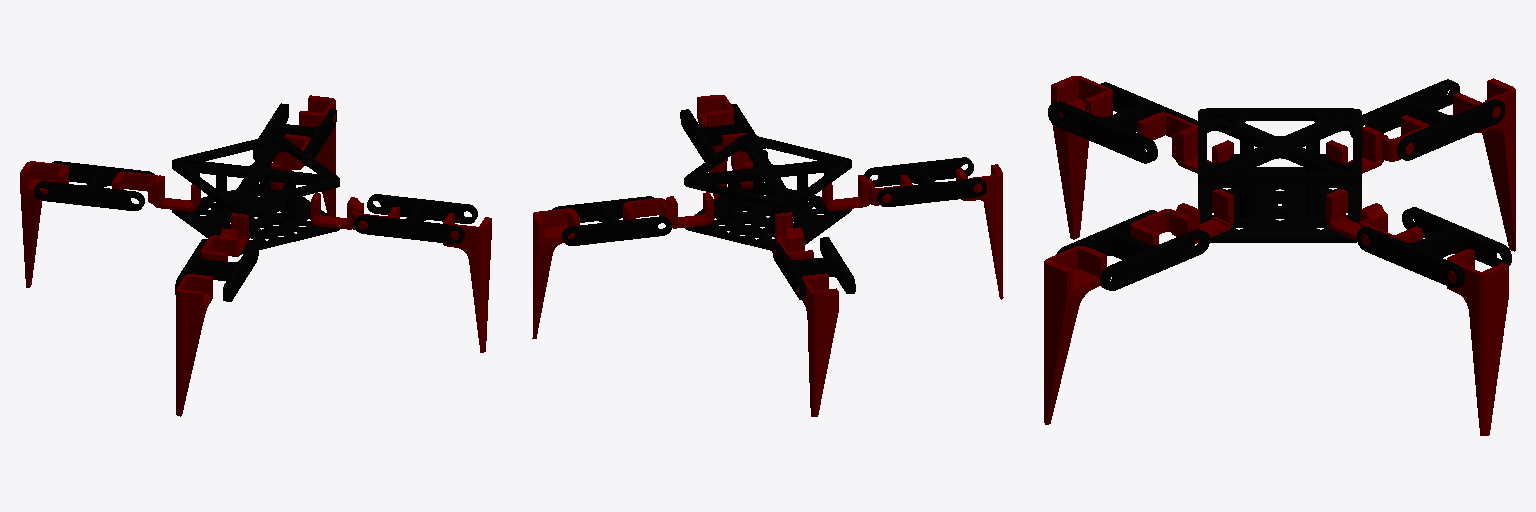
robot.urdf — spidey:
<?xml version="1.0" encoding="utf-8"?>
<!-- This URDF was automatically created by SolidWorks to URDF Exporter! Originally created by [author] ([email redacted]) 
     Commit Version: 1.6.0-1-g15f4949  Build Version: 1.6.7594.29634
     For more information, please see http://wiki.ros.org/sw_urdf_exporter -->
<robot
  name="spidey">
  <link
    name="base_link">
    <inertial>
      <origin
        xyz="-0.00017352 -2.0817E-16 0.10036"
        rpy="0 0 0" />
      <mass
        value="0.055807" />
      <inertia
        ixx="4.4373E-05"
        ixy="-4.3194E-20"
        ixz="4.2338E-11"
        iyy="4.7467E-05"
        iyz="1.713E-19"
        izz="8.7542E-05" />
    </inertial>
    <visual>
      <origin
        xyz="0 0 0"
        rpy="0 0 0" />
      <geometry>
        <mesh
          filename="base_link.obj" />
      </geometry>
      <material
        name="">
        <color
          rgba="0.025 0.025 0.025 1" />
      </material>
    </visual>
    <collision>
      <origin
        xyz="0 0 0"
        rpy="0 0 0" />
      <geometry>
        <mesh
          filename="base_link.obj" />
      </geometry>
    </collision>
  </link>
  <link
    name="leg1_link1">
    <inertial>
      <origin
        xyz="-0.022109 -0.013242 0.00314"
        rpy="0 0 0" />
      <mass
        value="0.0072387" />
      <inertia
        ixx="5.2277E-07"
        ixy="-1.4983E-07"
        ixz="3.6806E-07"
        iyy="3.2726E-06"
        iyz="2.8591E-08"
        izz="3.2165E-06" />
    </inertial>
    <visual>
      <origin
        xyz="0 0 0"
        rpy="0 0 0" />
      <geometry>
        <mesh
          filename="leg1_link1.obj" />
      </geometry>
      <material
        name="">
        <color
          rgba="0.4 0 0 1" />
      </material>
    </visual>
    <collision>
      <origin
        xyz="0 0 0"
        rpy="0 0 0" />
      <geometry>
        <mesh
          filename="leg1_link1.obj" />
      </geometry>
    </collision>
  </link>
  <joint
    name="leg1_joint1"
    type="revolute">
    <origin
      xyz="0.038964 -0.038964 0.0821"
      rpy="-1.5708 0 2.3562" />
    <parent
      link="base_link" />
    <child
      link="leg1_link1" />
    <axis
      xyz="0 1 0" />
    <limit
      lower="-1.74533"
      upper="1.39626"
      effort="15"
      velocity="7" />
  </joint>
  <link
    name="leg1_link2">
    <inertial>
      <origin
        xyz="0.0355 -6.9389E-18 -0.0042444"
        rpy="0 0 0" />
      <mass
        value="0.01229" />
      <inertia
        ixx="3.8942E-06"
        ixy="-4.3411E-22"
        ixz="0"
        iyy="8.4805E-06"
        iyz="7.4656E-22"
        izz="5.0073E-06" />
    </inertial>
    <visual>
      <origin
        xyz="0 0 0"
        rpy="0 0 0" />
      <geometry>
        <mesh
          filename="leg1_link2.obj" />
      </geometry>
      <material
        name="">
        <color
          rgba="0.025 0.025 0.025 1" />
      </material>
    </visual>
    <collision>
      <origin
        xyz="0 0 0"
        rpy="0 0 0" />
      <geometry>
        <mesh
          filename="leg1_link2.obj" />
      </geometry>
    </collision>
  </link>
  <joint
    name="leg1_joint2"
    type="revolute">
    <origin
      xyz="-0.033 -0.0145 0"
      rpy="0 0 3.1416" />
    <parent
      link="leg1_link1" />
    <child
      link="leg1_link2" />
    <axis
      xyz="0 0 1" />
    <limit
      lower="-1.6"
      upper="1.39626"
      effort="15"
      velocity="7" />
  </joint>
  <link
    name="leg1_link3">
    <inertial>
      <origin
        xyz="-0.011941 0.0057413 -0.023372"
        rpy="0 0 0" />
      <mass
        value="0.016854" />
      <inertia
        ixx="9.0006E-06"
        ixy="5.2666E-08"
        ixz="-1.776E-06"
        iyy="9.9265E-06"
        iyz="4.4045E-07"
        izz="2.0279E-06" />
    </inertial>
    <visual>
      <origin
        xyz="0 0 0"
        rpy="0 0 0" />
      <geometry>
        <mesh
          filename="leg1_link3.obj" />
      </geometry>
      <material
        name="">
        <color
          rgba="0.4 0 0 1" />
      </material>
    </visual>
    <collision>
      <origin
        xyz="0 0 0"
        rpy="0 0 0" />
      <geometry>
        <mesh
          filename="leg1_link3.obj" />
      </geometry>
    </collision>
  </link>
  <joint
    name="leg1_joint3"
    type="revolute">
    <origin
      xyz="0.071 0 0"
      rpy="1.5708 0 3.1416" />
    <parent
      link="leg1_link2" />
    <child
      link="leg1_link3" />
    <axis
      xyz="0 1 0" />
    <limit
      lower="-1.39626"
      upper="1.5708"
      effort="15"
      velocity="7" />
  </joint>
  <link
    name="leg1_link3_tip">
    <inertial>
      <origin
        xyz="-0.0012375 5E-05 -0.0018166"
        rpy="0 0 0" />
      <mass
        value="9.9084E-07" />
      <inertia
        ixx="1.3197E-12"
        ixy="-5.6281E-30"
        ixz="3.1491E-13"
        iyy="1.9383E-12"
        iyz="1.6126E-29"
        izz="6.2018E-13" />
    </inertial>
    <visual>
      <origin
        xyz="0 0 0"
        rpy="0 0 0" />
      <geometry>
        <mesh
          filename="leg1_link3_tip.obj" />
      </geometry>
      <material
        name="">
        <color
          rgba="0.4 0 0 1" />
      </material>
    </visual>
    <collision>
      <origin
        xyz="0 0 0"
        rpy="0 0 0" />
      <geometry>
        <mesh
          filename="leg1_link3_tip.obj" />
      </geometry>
    </collision>
  </link>
  <joint
    name="leg1_joint3_tip"
    type="fixed">
    <origin
      xyz="-0.019 0.0095 -0.0966"
      rpy="1.5708 0 0" />
    <parent
      link="leg1_link3" />
    <child
      link="leg1_link3_tip" />
    <axis
      xyz="0 0 0" />
  </joint>
  <link
    name="leg2_link1">
    <inertial>
      <origin
        xyz="-0.022109 -0.013242 0.00314"
        rpy="0 0 0" />
      <mass
        value="0.0072387" />
      <inertia
        ixx="5.2277E-07"
        ixy="-1.4983E-07"
        ixz="3.6806E-07"
        iyy="3.2726E-06"
        iyz="2.8591E-08"
        izz="3.2165E-06" />
    </inertial>
    <visual>
      <origin
        xyz="0 0 0"
        rpy="0 0 0" />
      <geometry>
        <mesh
          filename="leg2_link1.obj" />
      </geometry>
      <material
        name="">
        <color
          rgba="0.4 0 0 1" />
      </material>
    </visual>
    <collision>
      <origin
        xyz="0 0 0"
        rpy="0 0 0" />
      <geometry>
        <mesh
          filename="leg2_link1.obj" />
      </geometry>
    </collision>
  </link>
  <joint
    name="leg2_joint1"
    type="revolute">
    <origin
      xyz="0.038964 0.038964 0.0821"
      rpy="-1.5708 0 -2.3562" />
    <parent
      link="base_link" />
    <child
      link="leg2_link1" />
    <axis
      xyz="0 1 0" />
    <limit
      lower="-1.74533"
      upper="1.39626"
      effort="15"
      velocity="7" />
  </joint>
  <link
    name="leg2_link2">
    <inertial>
      <origin
        xyz="0.0355 -2.0817E-17 -0.0042444"
        rpy="0 0 0" />
      <mass
        value="0.01229" />
      <inertia
        ixx="3.8942E-06"
        ixy="1.3689E-21"
        ixz="4.2352E-22"
        iyy="8.4805E-06"
        iyz="-8.1057E-22"
        izz="5.0073E-06" />
    </inertial>
    <visual>
      <origin
        xyz="0 0 0"
        rpy="0 0 0" />
      <geometry>
        <mesh
          filename="leg2_link2.obj" />
      </geometry>
      <material
        name="">
        <color
          rgba="0.025 0.025 0.025 1" />
      </material>
    </visual>
    <collision>
      <origin
        xyz="0 0 0"
        rpy="0 0 0" />
      <geometry>
        <mesh
          filename="leg2_link2.obj" />
      </geometry>
    </collision>
  </link>
  <joint
    name="leg2_joint2"
    type="revolute">
    <origin
      xyz="-0.033 -0.0145 0"
      rpy="0 0 3.1416" />
    <parent
      link="leg2_link1" />
    <child
      link="leg2_link2" />
    <axis
      xyz="0 0 1" />
    <limit
      lower="-1.6"
      upper="1.39626"
      effort="15"
      velocity="7" />
  </joint>
  <link
    name="leg2_link3">
    <inertial>
      <origin
        xyz="-0.011941 0.0057413 -0.023372"
        rpy="0 0 0" />
      <mass
        value="0.016854" />
      <inertia
        ixx="9.0006E-06"
        ixy="5.2666E-08"
        ixz="-1.776E-06"
        iyy="9.9265E-06"
        iyz="4.4045E-07"
        izz="2.0279E-06" />
    </inertial>
    <visual>
      <origin
        xyz="0 0 0"
        rpy="0 0 0" />
      <geometry>
        <mesh
          filename="leg2_link3.obj" />
      </geometry>
      <material
        name="">
        <color
          rgba="0.4 0 0 1" />
      </material>
    </visual>
    <collision>
      <origin
        xyz="0 0 0"
        rpy="0 0 0" />
      <geometry>
        <mesh
          filename="leg2_link3.obj" />
      </geometry>
    </collision>
  </link>
  <joint
    name="leg2_joint3"
    type="revolute">
    <origin
      xyz="0.071 0 0"
      rpy="1.5708 0 3.1416" />
    <parent
      link="leg2_link2" />
    <child
      link="leg2_link3" />
    <axis
      xyz="0 1 0" />
    <limit
      lower="-1.39626"
      upper="1.5708"
      effort="15"
      velocity="7" />
  </joint>
  <link
    name="leg2_link3_tip">
    <inertial>
      <origin
        xyz="-0.0012375 5E-05 -0.0018166"
        rpy="0 0 0" />
      <mass
        value="9.9084E-07" />
      <inertia
        ixx="1.3197E-12"
        ixy="2.4956E-30"
        ixz="3.1491E-13"
        iyy="1.9383E-12"
        iyz="-1.2012E-27"
        izz="6.2018E-13" />
    </inertial>
    <visual>
      <origin
        xyz="0 0 0"
        rpy="0 0 0" />
      <geometry>
        <mesh
          filename="leg2_link3_tip.obj" />
      </geometry>
      <material
        name="">
        <color
          rgba="0.4 0 0 1" />
      </material>
    </visual>
    <collision>
      <origin
        xyz="0 0 0"
        rpy="0 0 0" />
      <geometry>
        <mesh
          filename="leg2_link3_tip.obj" />
      </geometry>
    </collision>
  </link>
  <joint
    name="leg2_joint3_tip"
    type="fixed">
    <origin
      xyz="-0.019 0.0095 -0.0966"
      rpy="1.5708 0 0" />
    <parent
      link="leg2_link3" />
    <child
      link="leg2_link3_tip" />
    <axis
      xyz="0 0 0" />
  </joint>
  <link
    name="leg3_link1">
    <inertial>
      <origin
        xyz="-0.022109 -0.013242 0.00314"
        rpy="0 0 0" />
      <mass
        value="0.0072387" />
      <inertia
        ixx="5.2277E-07"
        ixy="-1.4983E-07"
        ixz="3.6806E-07"
        iyy="3.2726E-06"
        iyz="2.8591E-08"
        izz="3.2165E-06" />
    </inertial>
    <visual>
      <origin
        xyz="0 0 0"
        rpy="0 0 0" />
      <geometry>
        <mesh
          filename="leg3_link1.obj" />
      </geometry>
      <material
        name="">
        <color
          rgba="0.4 0 0 1" />
      </material>
    </visual>
    <collision>
      <origin
        xyz="0 0 0"
        rpy="0 0 0" />
      <geometry>
        <mesh
          filename="leg3_link1.obj" />
      </geometry>
    </collision>
  </link>
  <joint
    name="leg3_joint1"
    type="revolute">
    <origin
      xyz="-0.038964 -0.038964 0.0821"
      rpy="-1.5708 0 0.7854" />
    <parent
      link="base_link" />
    <child
      link="leg3_link1" />
    <axis
      xyz="0 1 0" />
    <limit
      lower="-1.74533"
      upper="1.39626"
      effort="15"
      velocity="7" />
  </joint>
  <link
    name="leg3_link2">
    <inertial>
      <origin
        xyz="0.0355 -1.3878E-17 -0.0042444"
        rpy="0 0 0" />
      <mass
        value="0.01229" />
      <inertia
        ixx="3.8942E-06"
        ixy="1.1845E-21"
        ixz="-8.4703E-22"
        iyy="8.4805E-06"
        iyz="1.5912E-22"
        izz="5.0073E-06" />
    </inertial>
    <visual>
      <origin
        xyz="0 0 0"
        rpy="0 0 0" />
      <geometry>
        <mesh
          filename="leg3_link2.obj" />
      </geometry>
      <material
        name="">
        <color
          rgba="0.025 0.025 0.025 1" />
      </material>
    </visual>
    <collision>
      <origin
        xyz="0 0 0"
        rpy="0 0 0" />
      <geometry>
        <mesh
          filename="leg3_link2.obj" />
      </geometry>
    </collision>
  </link>
  <joint
    name="leg3_joint2"
    type="revolute">
    <origin
      xyz="-0.033 -0.0145 0"
      rpy="0 0 -3.1416" />
    <parent
      link="leg3_link1" />
    <child
      link="leg3_link2" />
    <axis
      xyz="0 0 1" />
    <limit
      lower="-1.6"
      upper="1.39626"
      effort="15"
      velocity="7" />
  </joint>
  <link
    name="leg3_link3">
    <inertial>
      <origin
        xyz="-0.011941 0.0057413 -0.023372"
        rpy="0 0 0" />
      <mass
        value="0.016854" />
      <inertia
        ixx="9.0006E-06"
        ixy="5.2666E-08"
        ixz="-1.776E-06"
        iyy="9.9265E-06"
        iyz="4.4045E-07"
        izz="2.0279E-06" />
    </inertial>
    <visual>
      <origin
        xyz="0 0 0"
        rpy="0 0 0" />
      <geometry>
        <mesh
          filename="leg3_link3.obj" />
      </geometry>
      <material
        name="">
        <color
          rgba="0.4 0 0 1" />
      </material>
    </visual>
    <collision>
      <origin
        xyz="0 0 0"
        rpy="0 0 0" />
      <geometry>
        <mesh
          filename="leg3_link3.obj" />
      </geometry>
    </collision>
  </link>
  <joint
    name="leg3_joint3"
    type="revolute">
    <origin
      xyz="0.071 0 0"
      rpy="1.5708 0 3.1416" />
    <parent
      link="leg3_link2" />
    <child
      link="leg3_link3" />
    <axis
      xyz="0 1 0" />
    <limit
      lower="-1.39626"
      upper="1.5708"
      effort="15"
      velocity="7" />
  </joint>
  <link
    name="leg3_link3_tip">
    <inertial>
      <origin
        xyz="-0.0012375 5E-05 -0.0018166"
        rpy="0 0 0" />
      <mass
        value="9.9084E-07" />
      <inertia
        ixx="1.3197E-12"
        ixy="-2.4151E-29"
        ixz="3.1491E-13"
        iyy="1.9383E-12"
        iyz="3.6531E-29"
        izz="6.2018E-13" />
    </inertial>
    <visual>
      <origin
        xyz="0 0 0"
        rpy="0 0 0" />
      <geometry>
        <mesh
          filename="leg3_link3_tip.obj" />
      </geometry>
      <material
        name="">
        <color
          rgba="0.4 0 0 1" />
      </material>
    </visual>
    <collision>
      <origin
        xyz="0 0 0"
        rpy="0 0 0" />
      <geometry>
        <mesh
          filename="leg3_link3_tip.obj" />
      </geometry>
    </collision>
  </link>
  <joint
    name="leg3_joint3_tip"
    type="fixed">
    <origin
      xyz="-0.019 0.0095 -0.0966"
      rpy="1.5708 0 0" />
    <parent
      link="leg3_link3" />
    <child
      link="leg3_link3_tip" />
    <axis
      xyz="0 0 0" />
  </joint>
  <link
    name="leg4_link1">
    <inertial>
      <origin
        xyz="-0.022109 -0.013242 0.00314"
        rpy="0 0 0" />
      <mass
        value="0.0072387" />
      <inertia
        ixx="5.2277E-07"
        ixy="-1.4983E-07"
        ixz="3.6806E-07"
        iyy="3.2726E-06"
        iyz="2.8591E-08"
        izz="3.2165E-06" />
    </inertial>
    <visual>
      <origin
        xyz="0 0 0"
        rpy="0 0 0" />
      <geometry>
        <mesh
          filename="leg4_link1.obj" />
      </geometry>
      <material
        name="">
        <color
          rgba="0.4 0 0 1" />
      </material>
    </visual>
    <collision>
      <origin
        xyz="0 0 0"
        rpy="0 0 0" />
      <geometry>
        <mesh
          filename="leg4_link1.obj" />
      </geometry>
    </collision>
  </link>
  <joint
    name="leg4_joint1"
    type="revolute">
    <origin
      xyz="-0.038964 0.038964 0.0821"
      rpy="-1.5708 0 -0.7854" />
    <parent
      link="base_link" />
    <child
      link="leg4_link1" />
    <axis
      xyz="0 1 0" />
    <limit
      lower="-1.74533"
      upper="1.39626"
      effort="15"
      velocity="7" />
  </joint>
  <link
    name="leg4_link2">
    <inertial>
      <origin
        xyz="0.0355 0 -0.0042444"
        rpy="0 0 0" />
      <mass
        value="0.01229" />
      <inertia
        ixx="3.8942E-06"
        ixy="1.2695E-22"
        ixz="2.3293E-21"
        iyy="8.4805E-06"
        iyz="2.1565E-22"
        izz="5.0073E-06" />
    </inertial>
    <visual>
      <origin
        xyz="0 0 0"
        rpy="0 0 0" />
      <geometry>
        <mesh
          filename="leg4_link2.obj" />
      </geometry>
      <material
        name="">
        <color
          rgba="0.025 0.025 0.025 1" />
      </material>
    </visual>
    <collision>
      <origin
        xyz="0 0 0"
        rpy="0 0 0" />
      <geometry>
        <mesh
          filename="leg4_link2.obj" />
      </geometry>
    </collision>
  </link>
  <joint
    name="leg4_joint2"
    type="revolute">
    <origin
      xyz="-0.033 -0.0145 0"
      rpy="0 0 -3.1416" />
    <parent
      link="leg4_link1" />
    <child
      link="leg4_link2" />
    <axis
      xyz="0 0 1" />
    <limit
      lower="-1.6"
      upper="1.39626"
      effort="15"
      velocity="7" />
  </joint>
  <link
    name="leg4_link3">
    <inertial>
      <origin
        xyz="-0.011941 0.0057413 -0.023372"
        rpy="0 0 0" />
      <mass
        value="0.016854" />
      <inertia
        ixx="9.0006E-06"
        ixy="5.2666E-08"
        ixz="-1.776E-06"
        iyy="9.9265E-06"
        iyz="4.4045E-07"
        izz="2.0279E-06" />
    </inertial>
    <visual>
      <origin
        xyz="0 0 0"
        rpy="0 0 0" />
      <geometry>
        <mesh
          filename="leg4_link3.obj" />
      </geometry>
      <material
        name="">
        <color
          rgba="0.4 0 0 1" />
      </material>
    </visual>
    <collision>
      <origin
        xyz="0 0 0"
        rpy="0 0 0" />
      <geometry>
        <mesh
          filename="leg4_link3.obj" />
      </geometry>
    </collision>
  </link>
  <joint
    name="leg4_joint3"
    type="revolute">
    <origin
      xyz="0.071 0 0"
      rpy="1.5708 0 3.1416" />
    <parent
      link="leg4_link2" />
    <child
      link="leg4_link3" />
    <axis
      xyz="0 1 0" />
    <limit
      lower="-1.39626"
      upper="1.5708"
      effort="15"
      velocity="7" />
  </joint>
  <link
    name="leg4_link3_tip">
    <inertial>
      <origin
        xyz="-0.0012375 5E-05 -0.0018166"
        rpy="0 0 0" />
      <mass
        value="9.9084E-07" />
      <inertia
        ixx="1.3197E-12"
        ixy="4.7756E-28"
        ixz="3.1491E-13"
        iyy="1.9383E-12"
        iyz="-4.057E-28"
        izz="6.2018E-13" />
    </inertial>
    <visual>
      <origin
        xyz="0 0 0"
        rpy="0 0 0" />
      <geometry>
        <mesh
          filename="leg4_link3_tip.obj" />
      </geometry>
      <material
        name="">
        <color
          rgba="0.4 0 0 1" />
      </material>
    </visual>
    <collision>
      <origin
        xyz="0 0 0"
        rpy="0 0 0" />
      <geometry>
        <mesh
          filename="leg4_link3_tip.obj" />
      </geometry>
    </collision>
  </link>
  <joint
    name="leg4_joint3_tip"
    type="fixed">
    <origin
      xyz="-0.019 0.0095 -0.0966"
      rpy="1.5708 0 0" />
    <parent
      link="leg4_link3" />
    <child
      link="leg4_link3_tip" />
    <axis
      xyz="0 0 0" />
  </joint>
</robot>

--- Render facts (derived) ---
The picture shows the robot from 3 angles, left to right: view 1: azimuth 30°, elevation 25°; view 2: azimuth 150°, elevation 25°; view 3: azimuth 270°, elevation 25°; orthographic projection.
Model spidey with 17 links and 16 joints (12 revolute, 4 fixed), rooted at base_link, posed all joints at 0.
Links seen in each view (by area): view 1: base_link, leg1_link2, leg4_link2, leg3_link3, leg1_link3, leg4_link3, leg3_link2, leg4_link1, leg2_link3, leg2_link2, leg3_link1, leg1_link1 (+1 smaller); view 2: base_link, leg3_link2, leg4_link3, leg2_link2, leg2_link3, leg4_link2, leg3_link3, leg2_link1, leg1_link2, leg1_link3, leg3_link1, leg4_link1 (+1 smaller); view 3: base_link, leg2_link2, leg2_link3, leg1_link3, leg4_link2, leg1_link2, leg3_link2, leg3_link3, leg4_link3, leg1_link1, leg3_link1, leg2_link1 (+1 smaller).
Link boxes in pixels (x1,y1,x2,y2): base_link: (172, 135, 339, 254); leg1_link2: (354, 194, 477, 243); leg4_link2: (34, 161, 154, 210); leg3_link3: (176, 274, 212, 415); leg1_link3: (443, 213, 491, 352); leg4_link3: (20, 161, 68, 287); leg3_link2: (175, 239, 258, 301); leg4_link1: (112, 172, 200, 211); leg2_link3: (299, 95, 335, 216); leg2_link2: (253, 103, 336, 165); leg3_link1: (201, 213, 248, 261); leg1_link1: (311, 193, 399, 229); base_link: (684, 134, 851, 250); leg3_link2: (864, 157, 986, 206); leg4_link3: (798, 273, 838, 416); leg2_link2: (552, 196, 671, 245); leg2_link3: (533, 208, 579, 338); leg4_link2: (772, 237, 855, 299); leg3_link3: (956, 164, 1002, 298); leg2_link1: (623, 192, 713, 228); leg1_link2: (680, 104, 756, 161); leg1_link3: (697, 95, 733, 199); leg3_link1: (822, 175, 912, 210); leg4_link1: (774, 212, 813, 259); base_link: (1198, 108, 1361, 242); leg2_link2: (1357, 207, 1511, 288); leg2_link3: (1447, 249, 1508, 435); leg1_link3: (1044, 246, 1106, 424); leg4_link2: (1350, 79, 1505, 160); leg1_link2: (1056, 210, 1209, 290); leg3_link2: (1048, 82, 1197, 163); leg3_link3: (1051, 76, 1112, 239); leg4_link3: (1453, 78, 1515, 251); leg1_link1: (1131, 189, 1233, 244); leg3_link1: (1137, 112, 1233, 173); leg2_link1: (1326, 189, 1422, 245).
Bounding box of the posed robot: 0.2725 × 0.2725 × 0.1236 m (x, y, z).
17 mesh visuals loaded from 17 distinct referenced files (17 OBJ).